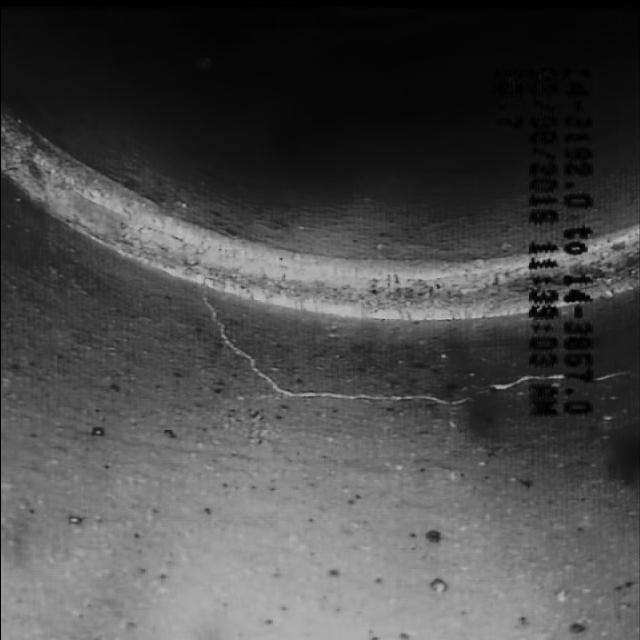Crack: (238, 348, 524, 430)
